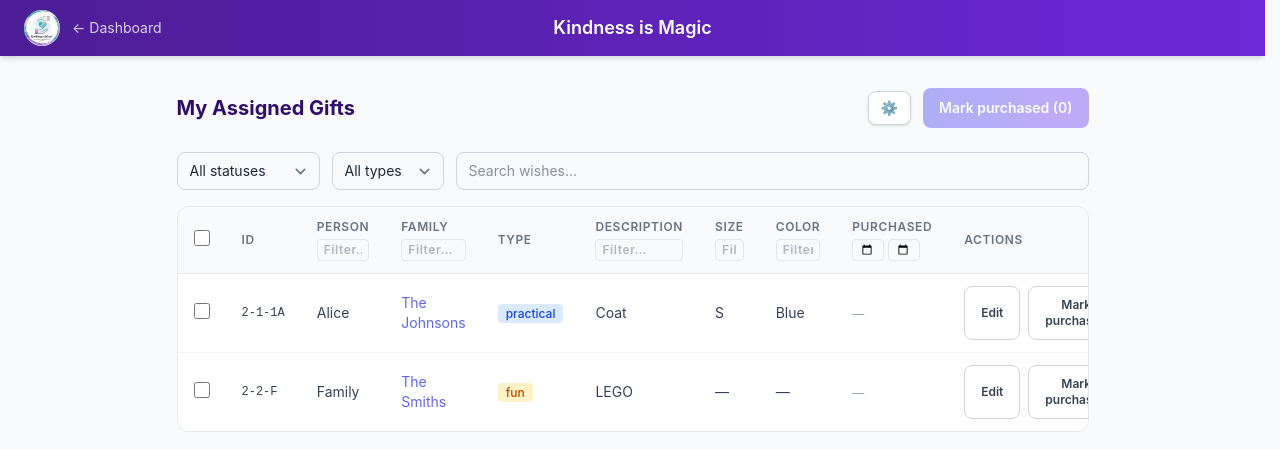
Scenario: AdminAssignedGifts › clears checkbox selection when the purchased filter changes
The width and height of the screenshot is (1280, 449).
Expected: the text "Coat" is shown, [579,274,699,352]
Click the checkbox named "Select all wishes on this page" at (202, 238), box [194,230,210,246]
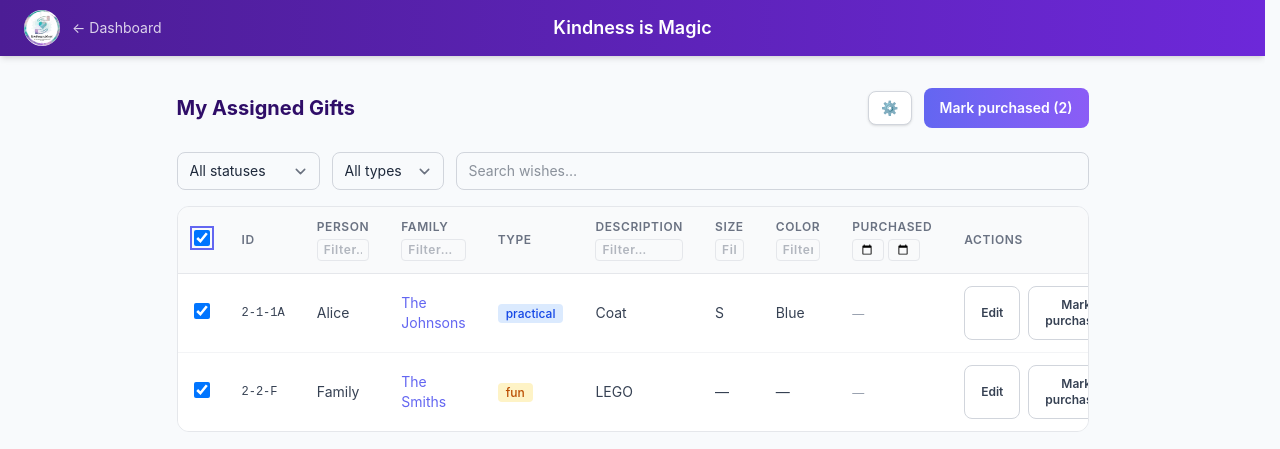
Result: the button "Mark purchased (2)" is shown at [924,88,1088,128]
Select "Purchased" in the dropdown named "Purchased filter" at (248, 171), box [176,152,320,190]
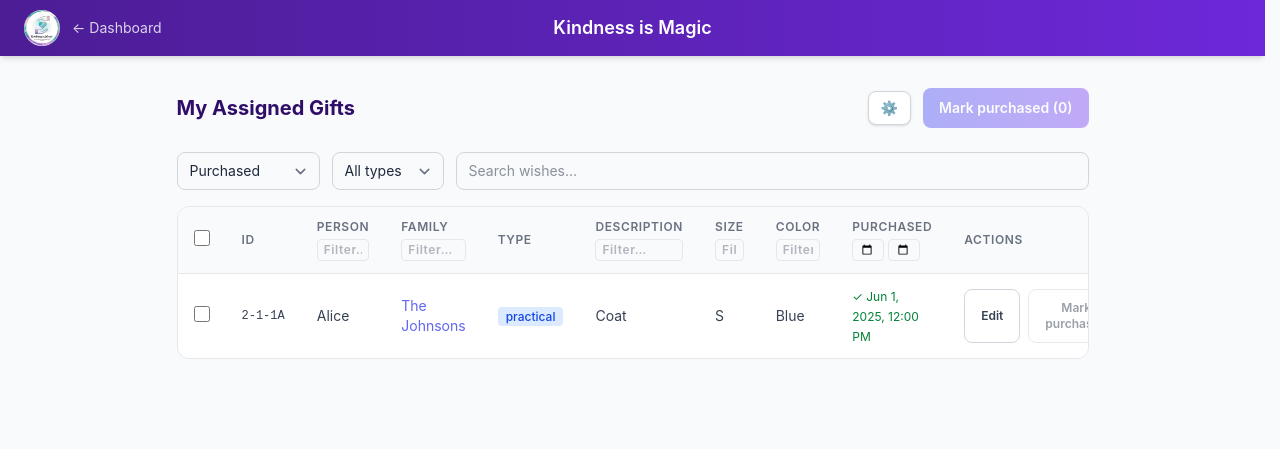
Result: the button "Mark purchased (0)" is shown at [923,88,1088,128]
